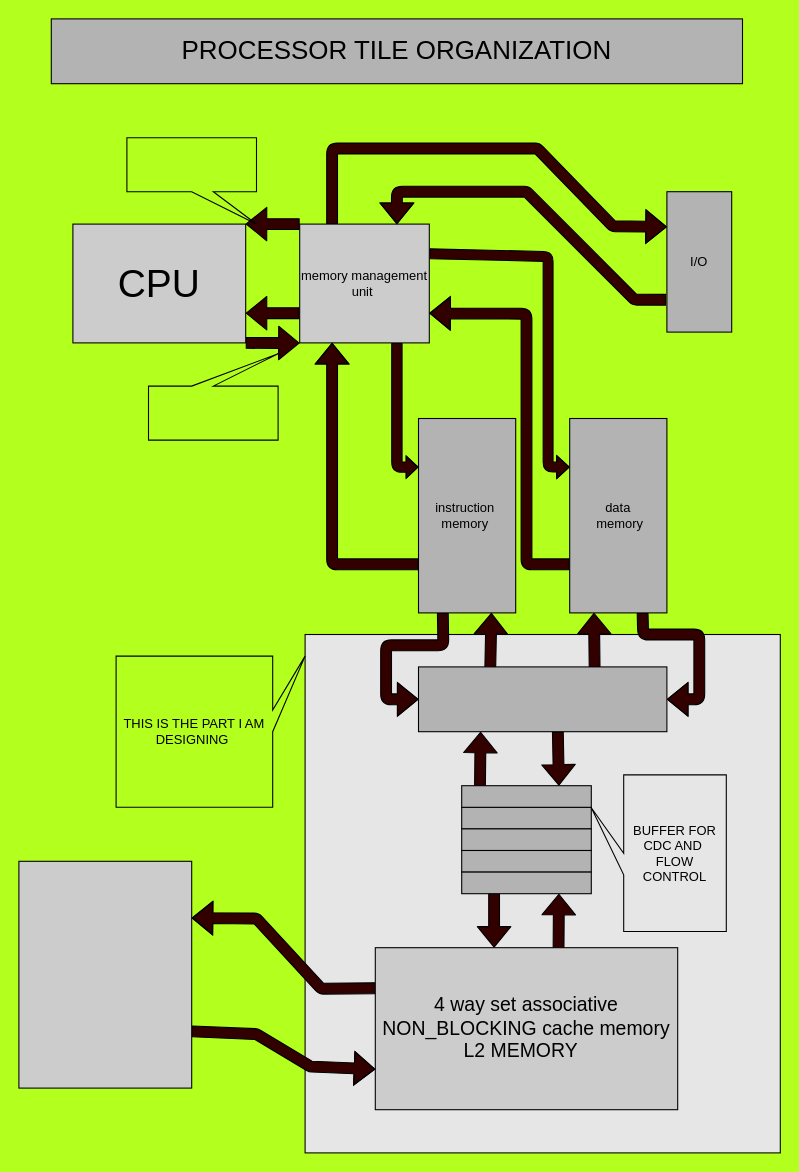
The diagram is 799 pixels wide and 1172 high, and some of its shapes have lost their labels. Each missing label, with the centre of its shape:
"Arbitration logic" belongs at (x=542, y=699).
"data bus read and write" belongs at (x=212, y=396).
"instruction bus" belongs at (x=191, y=180).
"memory with veriable latency" belongs at (x=105, y=974).
